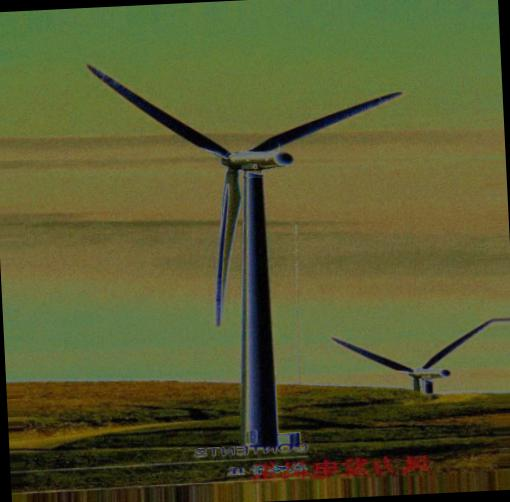wind turbine: (85, 66, 404, 451)
